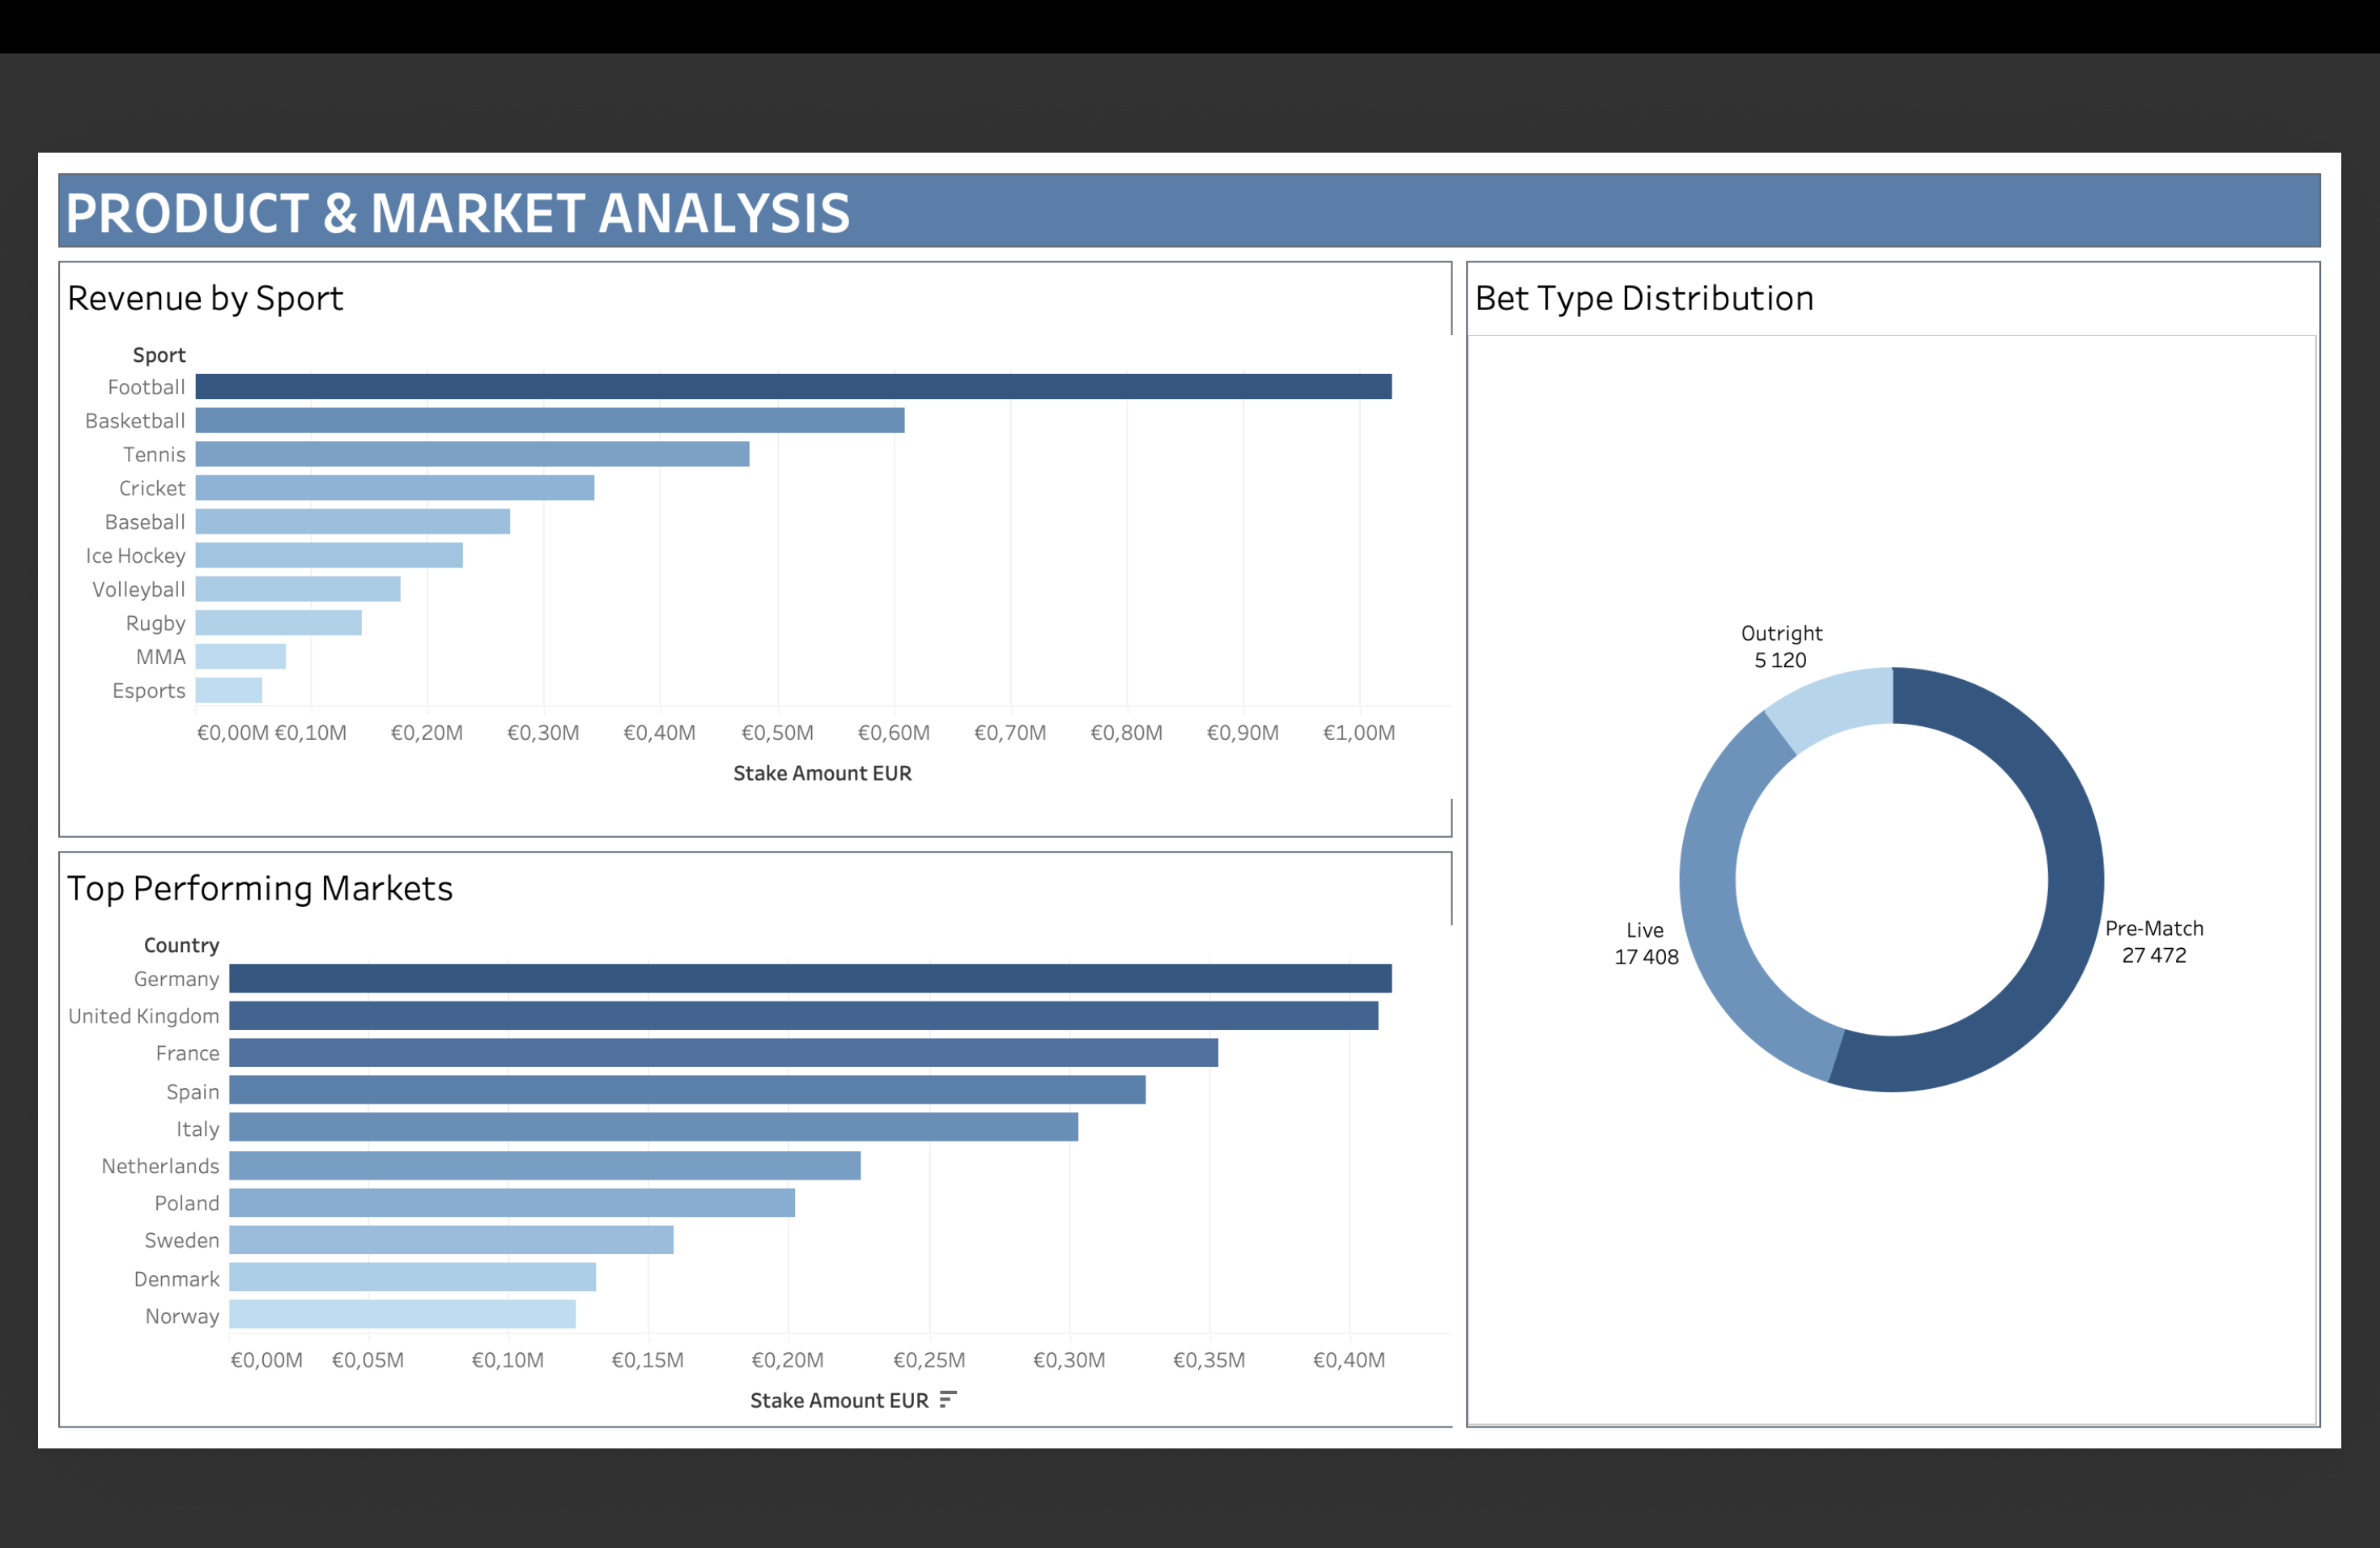

What the dashboard file says about the page in this screenshot:
{"tool":"tableau","page":{"name":"PRODUCT & MARKET ANALYSIS","canvas":[1366,768],"ordinal":1},"visuals":[{"type":"title","box":[8,8,1350,52]},{"type":"worksheet","title":"Sport - Revenue Bar","mark":"Automatic","rows":["Sport"],"cols":["Stake_Amount_EUR"],"box":[8,60,835,350]},{"type":"worksheet","title":"Sport - Bet Type Split","mark":"Pie","rows":["Calculation_1367371195064323","Calculation_1367371195076613"],"box":[843,60,515,700]},{"type":"worksheet","title":"Market - Top Countries","mark":"Automatic","rows":["Country"],"cols":["Stake_Amount_EUR"],"box":[8,410,835,350]}]}

Visuals, with their boxes on the page's 1366x768 design canvas (x1, y1, x2, y2). These are canvas units, not pixel positions in the 2380x1548 screenshot, which may show the page scaled, cropped or inside an application window:
title: Rect(8, 8, 1358, 60)
"Sport - Revenue Bar" worksheet: Rect(8, 60, 843, 410)
"Sport - Bet Type Split" worksheet (Pie marks): Rect(843, 60, 1358, 760)
"Market - Top Countries" worksheet: Rect(8, 410, 843, 760)
